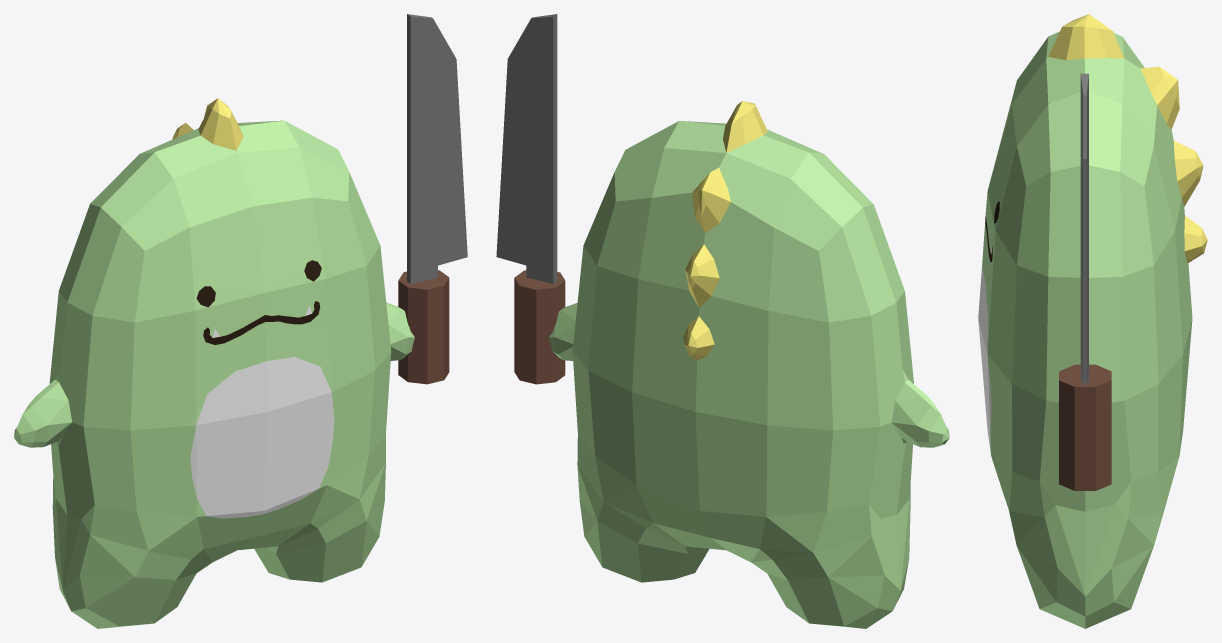
The model's file is 누칼협꽁룡.fbx.
3 views of the same model, side by side, from view 1: azimuth 30°, elevation 25°; view 2: azimuth 150°, elevation 25°; view 3: azimuth 270°, elevation 25° (orthographic). The views are drawn at different scales.
Parts seen in each view (by area): view 1: Cube, Cube.002; view 2: Cube, Cube.002; view 3: Cube, Cube.002.
Boxes of the visible parts, x1,y1,x2,y2 form: Cube: (14, 98, 414, 628); Cube.002: (398, 14, 467, 384); Cube: (549, 101, 949, 628); Cube.002: (496, 14, 565, 384); Cube: (978, 14, 1207, 628); Cube.002: (1059, 73, 1111, 490).
Bounding box in the file's own units: 372 × 423 × 149.
Materials: 3 (1 with a texture image).
